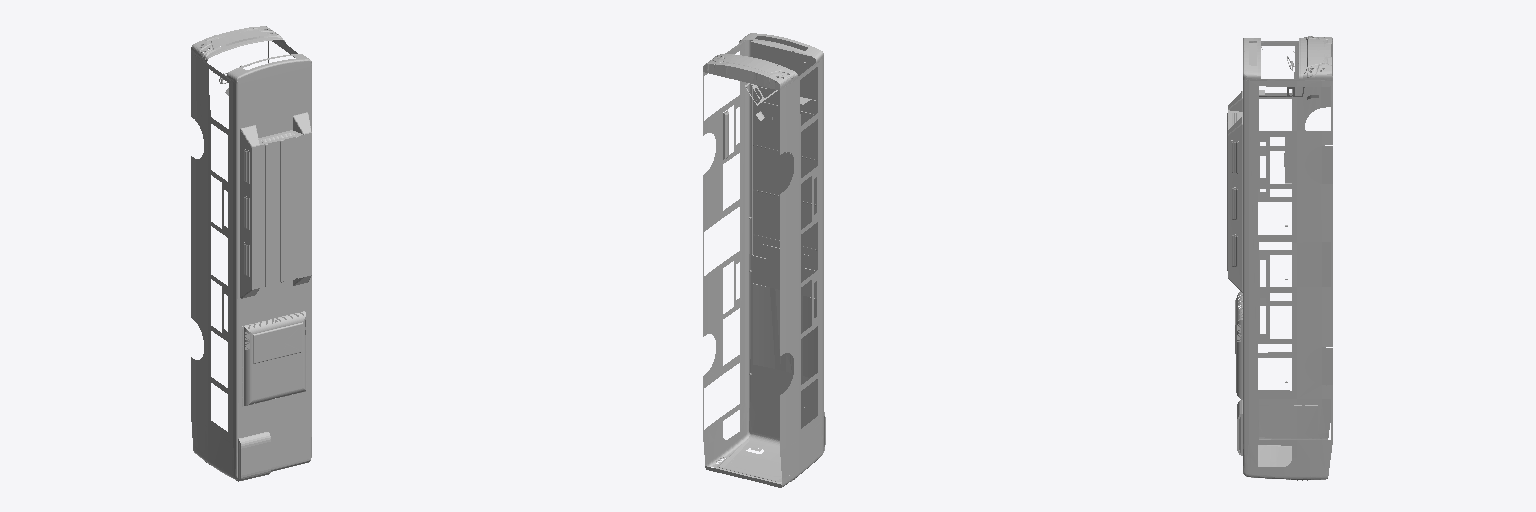
File: liaz.obj
The picture shows the model from 3 angles: view 1: azimuth 30°, elevation 25°; view 2: azimuth 150°, elevation 25°; view 3: azimuth 270°, elevation 25°; orthographic projection.
Visible parts, largest first — view 1: Liaz1; view 2: Liaz1; view 3: Liaz1.
Boxes of the visible parts, x1=… form: Liaz1: x1=191, y1=26, x2=311, y2=481; Liaz1: x1=703, y1=33, x2=825, y2=487; Liaz1: x1=1227, y1=36, x2=1332, y2=480.
Size of the model in its own units: 125 by 627 by 146.